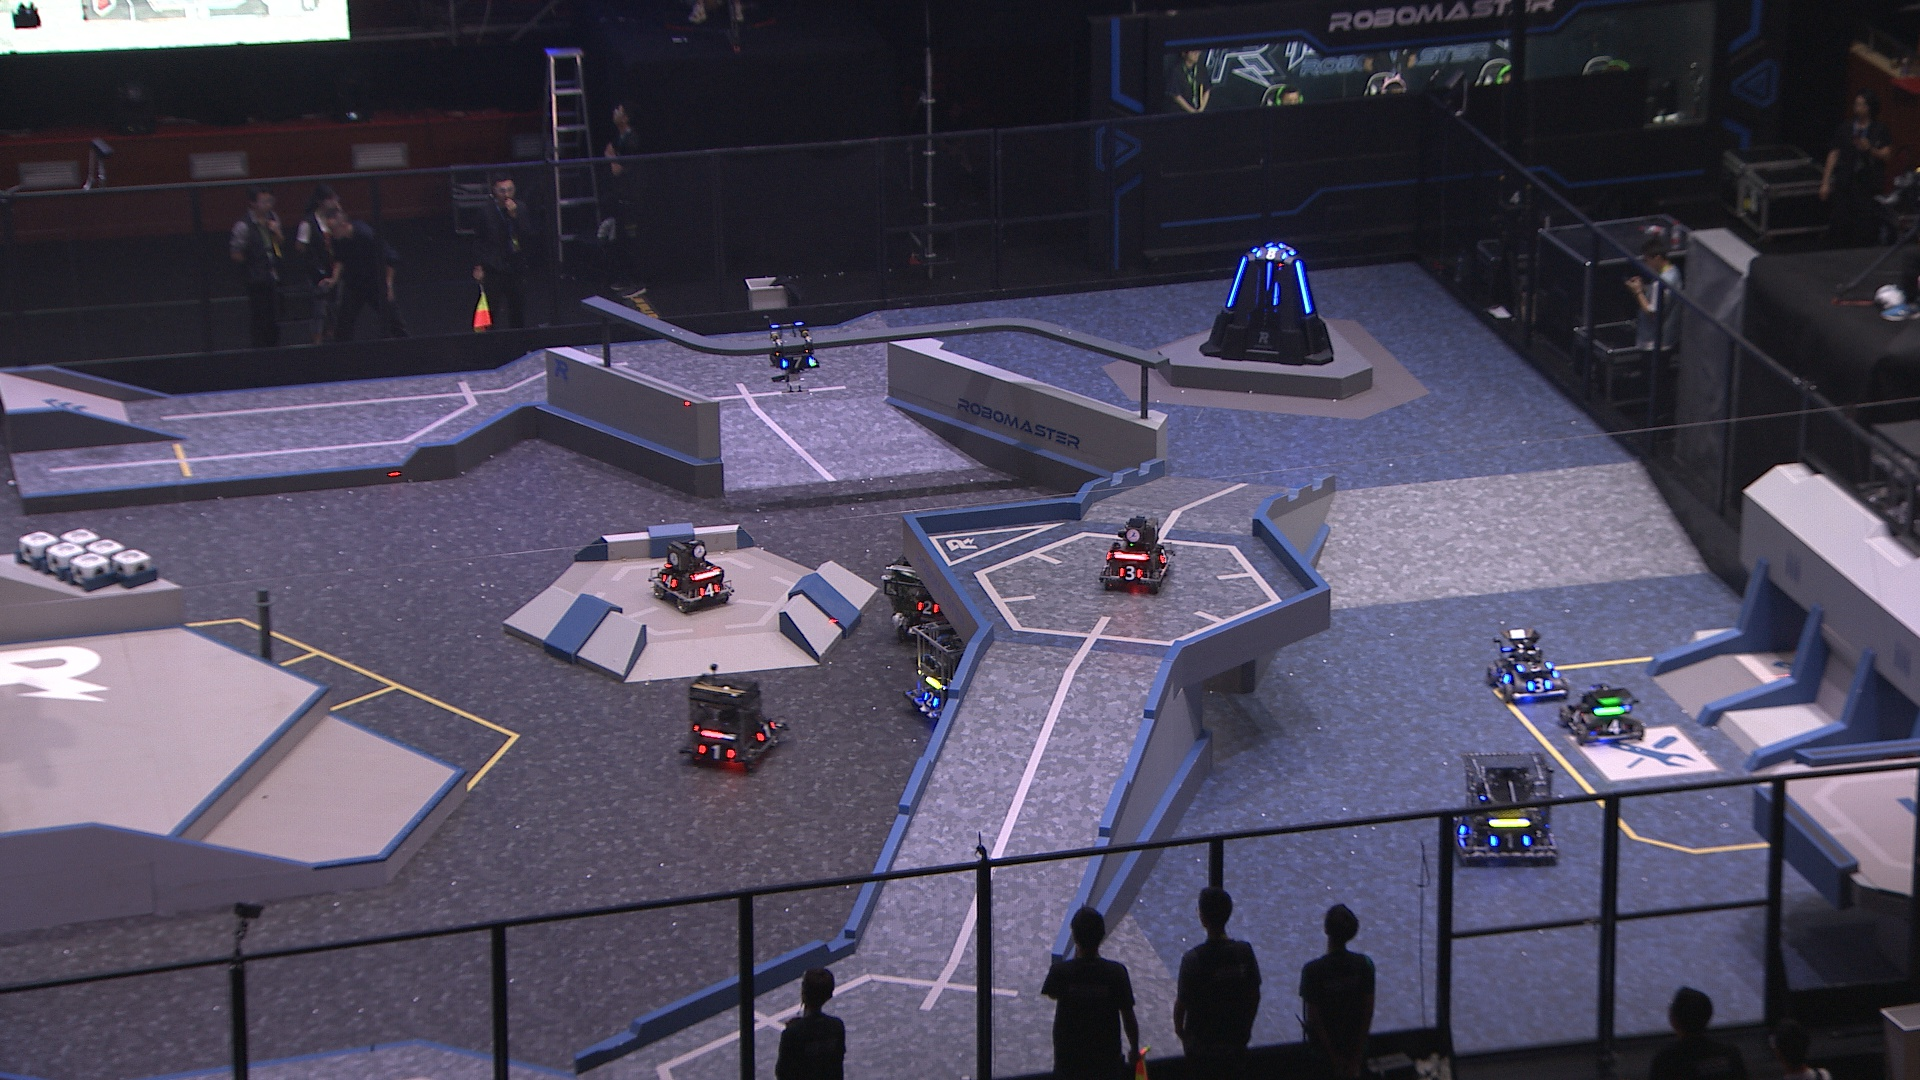armor: (1224, 253, 1249, 310), (1294, 258, 1313, 318), (699, 742, 733, 764), (1493, 831, 1528, 851), (782, 353, 818, 372), (756, 717, 778, 744), (1255, 247, 1287, 261), (1602, 717, 1629, 735), (1491, 665, 1510, 688), (1519, 659, 1552, 673), (1116, 564, 1145, 579), (916, 599, 940, 616), (922, 690, 942, 709), (659, 574, 679, 593), (1528, 676, 1551, 694), (1265, 258, 1275, 294), (699, 584, 723, 599), (1567, 705, 1581, 728), (1455, 818, 1468, 841), (1155, 549, 1168, 567)
base: (1193, 237, 1333, 365)
car: (1449, 746, 1560, 864), (675, 670, 789, 774), (905, 618, 998, 733), (882, 543, 982, 640), (1486, 629, 1572, 705), (651, 541, 737, 617), (1553, 683, 1646, 746), (1098, 517, 1172, 591)
watcher: (766, 322, 823, 389)
